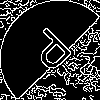P: (25, 25, 82, 81)
